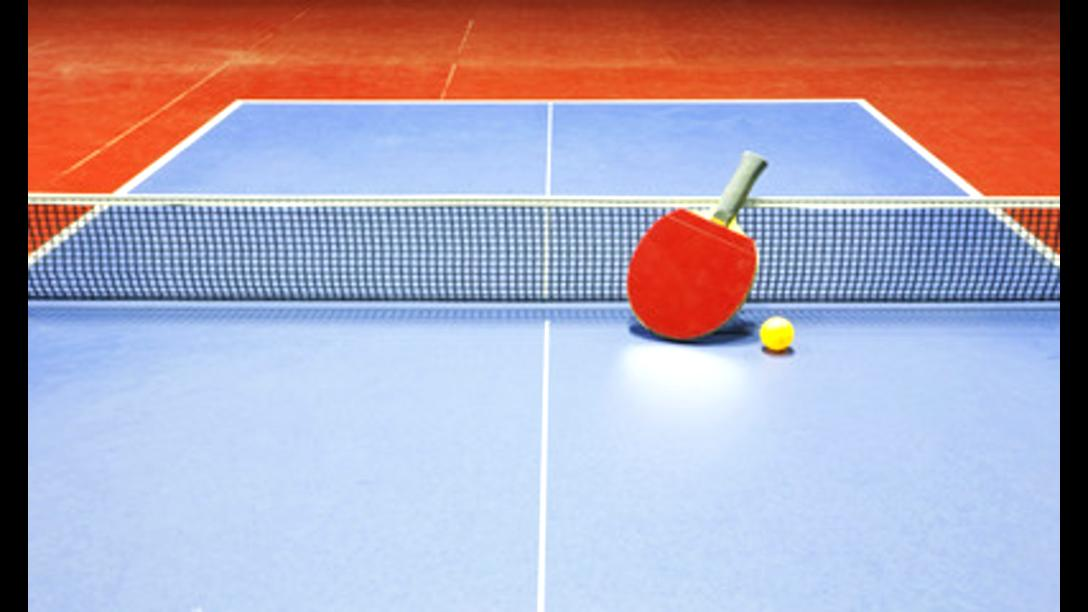Table-Tennis-Ball: (760, 316, 793, 350)
